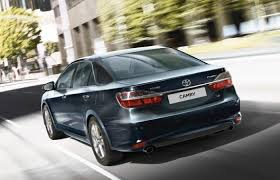car: (36, 44, 243, 166)
